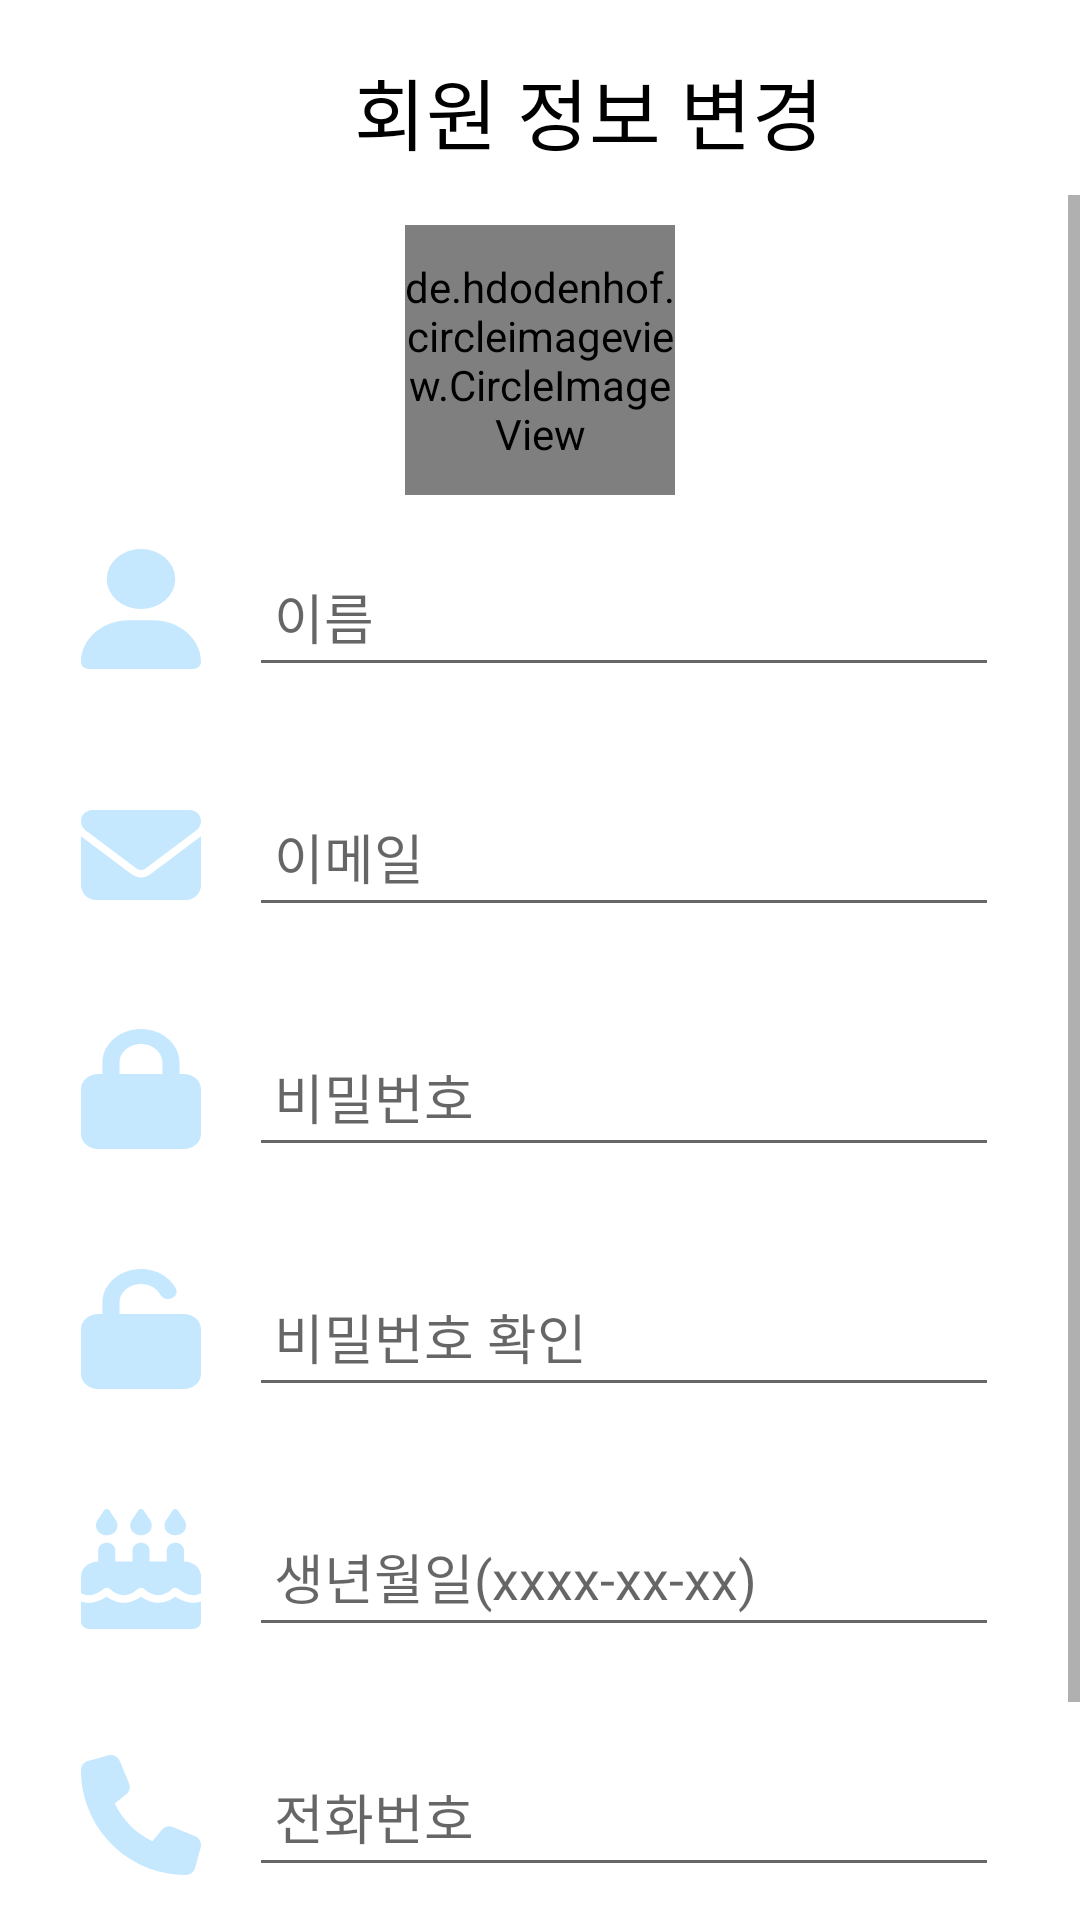

Screen size 1080 x 1920. Icon name, then its center in pixels as (x=x, y=y):
cake candles: (x=141, y=1569)
envelope: (x=141, y=855)
lock: (x=141, y=1089)
phone: (x=141, y=1815)
unlock: (x=141, y=1329)
user: (x=141, y=609)
